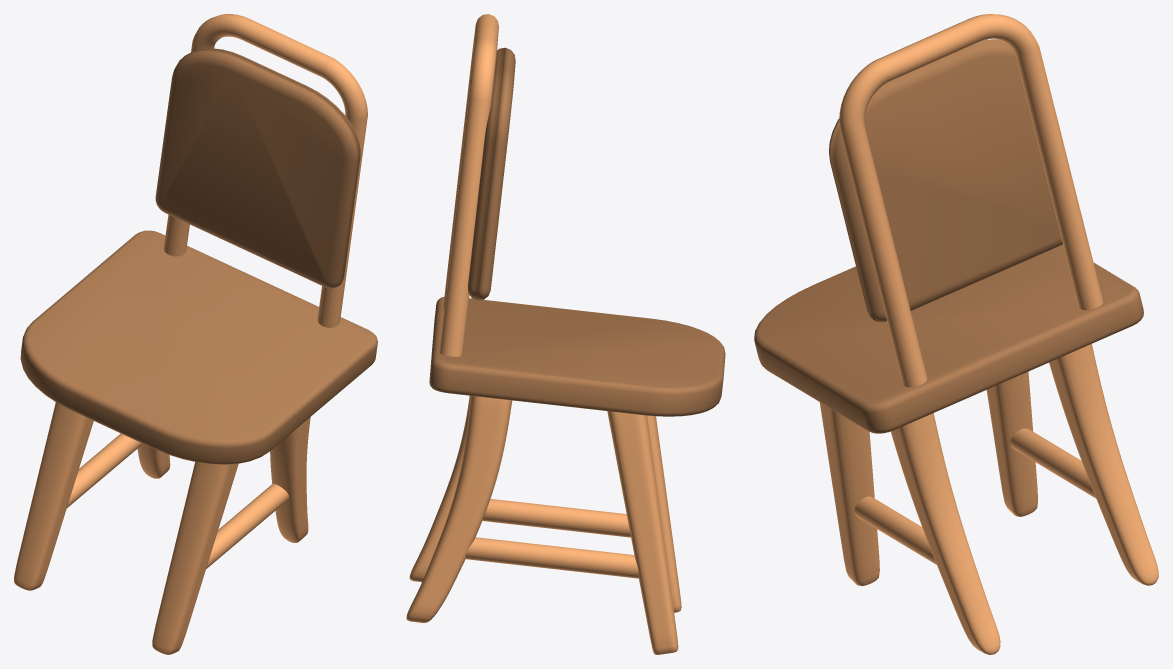
Rendered from Dinning Chair.fbx.
3 renders of one model, left to right at view 1: azimuth 30°, elevation 25°; view 2: azimuth 150°, elevation 25°; view 3: azimuth 270°, elevation 25°, orthographic. The views are drawn at different scales.
Visible parts, largest first — view 1: Cube.079, Cube.084, Torus.002, Cube.081, Cube.083, Cube.080, Cylinder.011, Cylinder.012, Cube.082; view 2: Cube.079, Cube.082, Torus.002, Cube.083, Cube.084, Cylinder.012, Cylinder.011, Cube.081, Cube.080; view 3: Cube.084, Cube.079, Torus.002, Cube.080, Cube.082, Cube.081, Cube.083, Cylinder.012, Cylinder.011.
Part boxes in pixels (x1,y1,x2,y2): Cube.079: [20, 230, 377, 464]; Cube.084: [155, 48, 360, 288]; Torus.002: [163, 14, 367, 327]; Cube.081: [152, 462, 238, 654]; Cube.083: [14, 402, 93, 590]; Cube.080: [270, 417, 310, 542]; Cylinder.011: [206, 484, 288, 568]; Cylinder.012: [66, 433, 142, 508]; Cube.082: [137, 444, 170, 478]; Cube.079: [429, 297, 725, 416]; Cube.082: [406, 396, 512, 622]; Torus.002: [439, 14, 498, 356]; Cube.083: [607, 411, 678, 654]; Cube.084: [468, 47, 515, 300]; Cylinder.012: [465, 537, 638, 578]; Cylinder.011: [482, 499, 630, 537]; Cube.081: [647, 415, 681, 612]; Cube.080: [409, 395, 470, 582]; Cube.084: [829, 39, 1062, 321]; Cube.079: [754, 244, 1143, 433]; Torus.002: [839, 14, 1103, 387]; Cube.080: [890, 413, 1000, 654]; Cube.082: [1049, 344, 1158, 585]; Cube.081: [819, 402, 879, 585]; Cube.083: [986, 371, 1037, 516]; Cylinder.012: [1010, 428, 1095, 498]; Cylinder.011: [854, 496, 936, 564].
Bounding box in the file's own units: 314 × 561 × 325.
